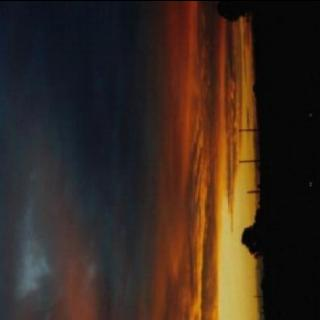Altostratus: (1, 0, 242, 320)
